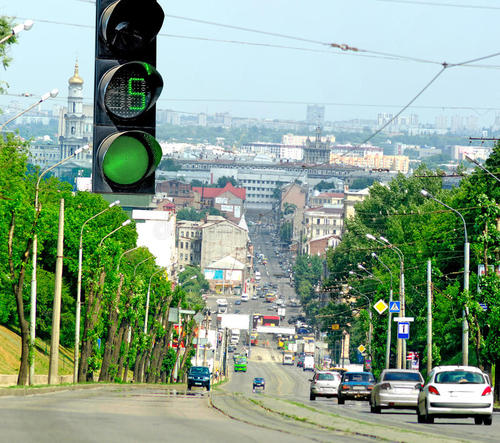green: (91, 1, 160, 200)
